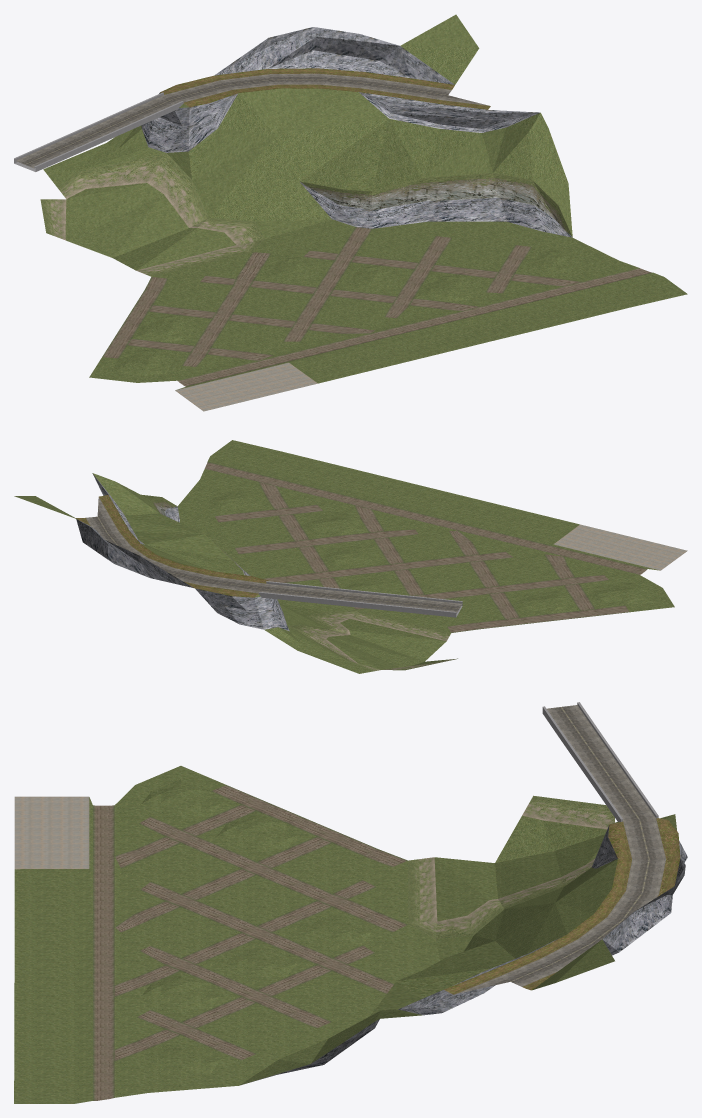
Rendered from ne_bit_07.obj.
The picture shows the model from 3 angles, top to bottom: view 1: azimuth 30°, elevation 25°; view 2: azimuth 150°, elevation 25°; view 3: azimuth 270°, elevation 25°; orthographic projection. The views are drawn at different scales.
Visible parts, largest first — view 1: ne_bit_07; view 2: ne_bit_07; view 3: ne_bit_07.
Boxes of the visible parts, bbox=[...] form: ne_bit_07: bbox=[14, 14, 687, 411]; ne_bit_07: bbox=[14, 440, 687, 673]; ne_bit_07: bbox=[14, 702, 687, 1103].
Bounding box in the file's own units: 284 × 58.18 × 239.
14 materials, 14 textured.
